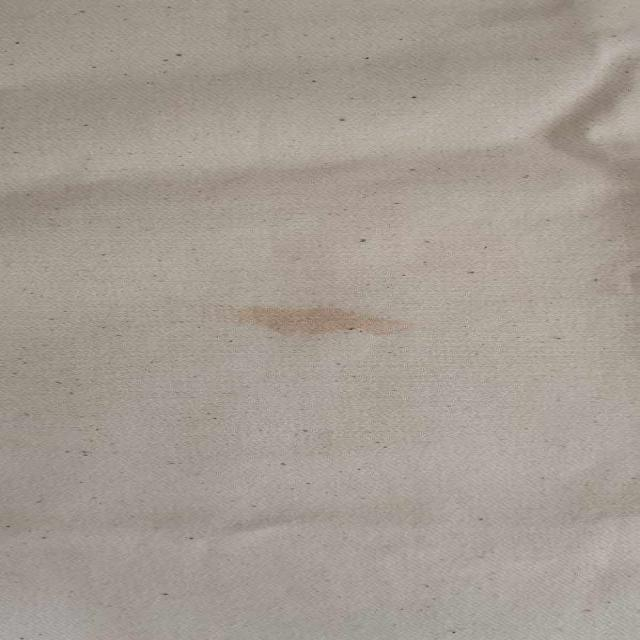taaaches: (210, 290, 420, 348)
